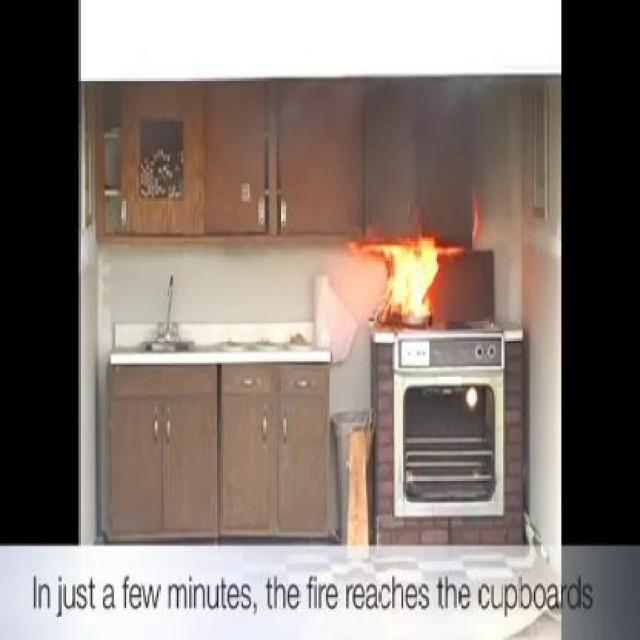fire: (346, 238, 448, 320)
